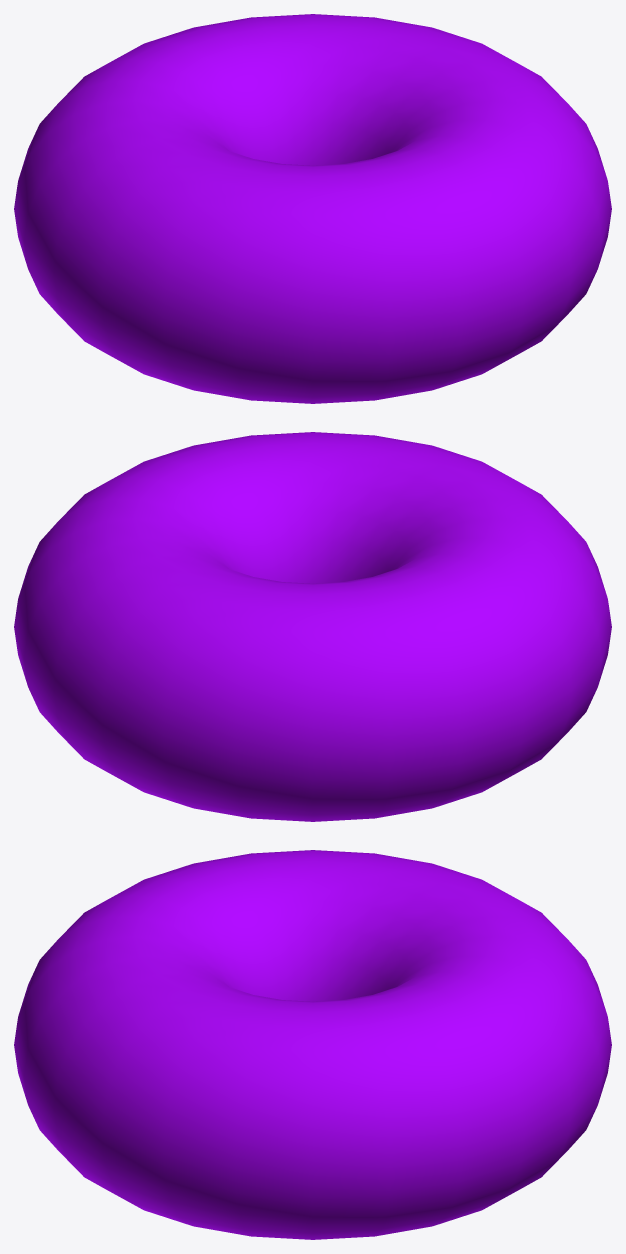
3 views of the same model, one above another, from view 1: azimuth 30°, elevation 25°; view 2: azimuth 150°, elevation 25°; view 3: azimuth 270°, elevation 25° (orthographic).
Visible parts, largest first — view 1: Torus; view 2: Torus; view 3: Torus.
Boxes of the visible parts, x1=… form: Torus: x1=14, y1=14, x2=611, y2=403; Torus: x1=14, y1=432, x2=611, y2=821; Torus: x1=14, y1=850, x2=611, y2=1239.
Bounding box in the file's own units: 1 × 0.4 × 1.
